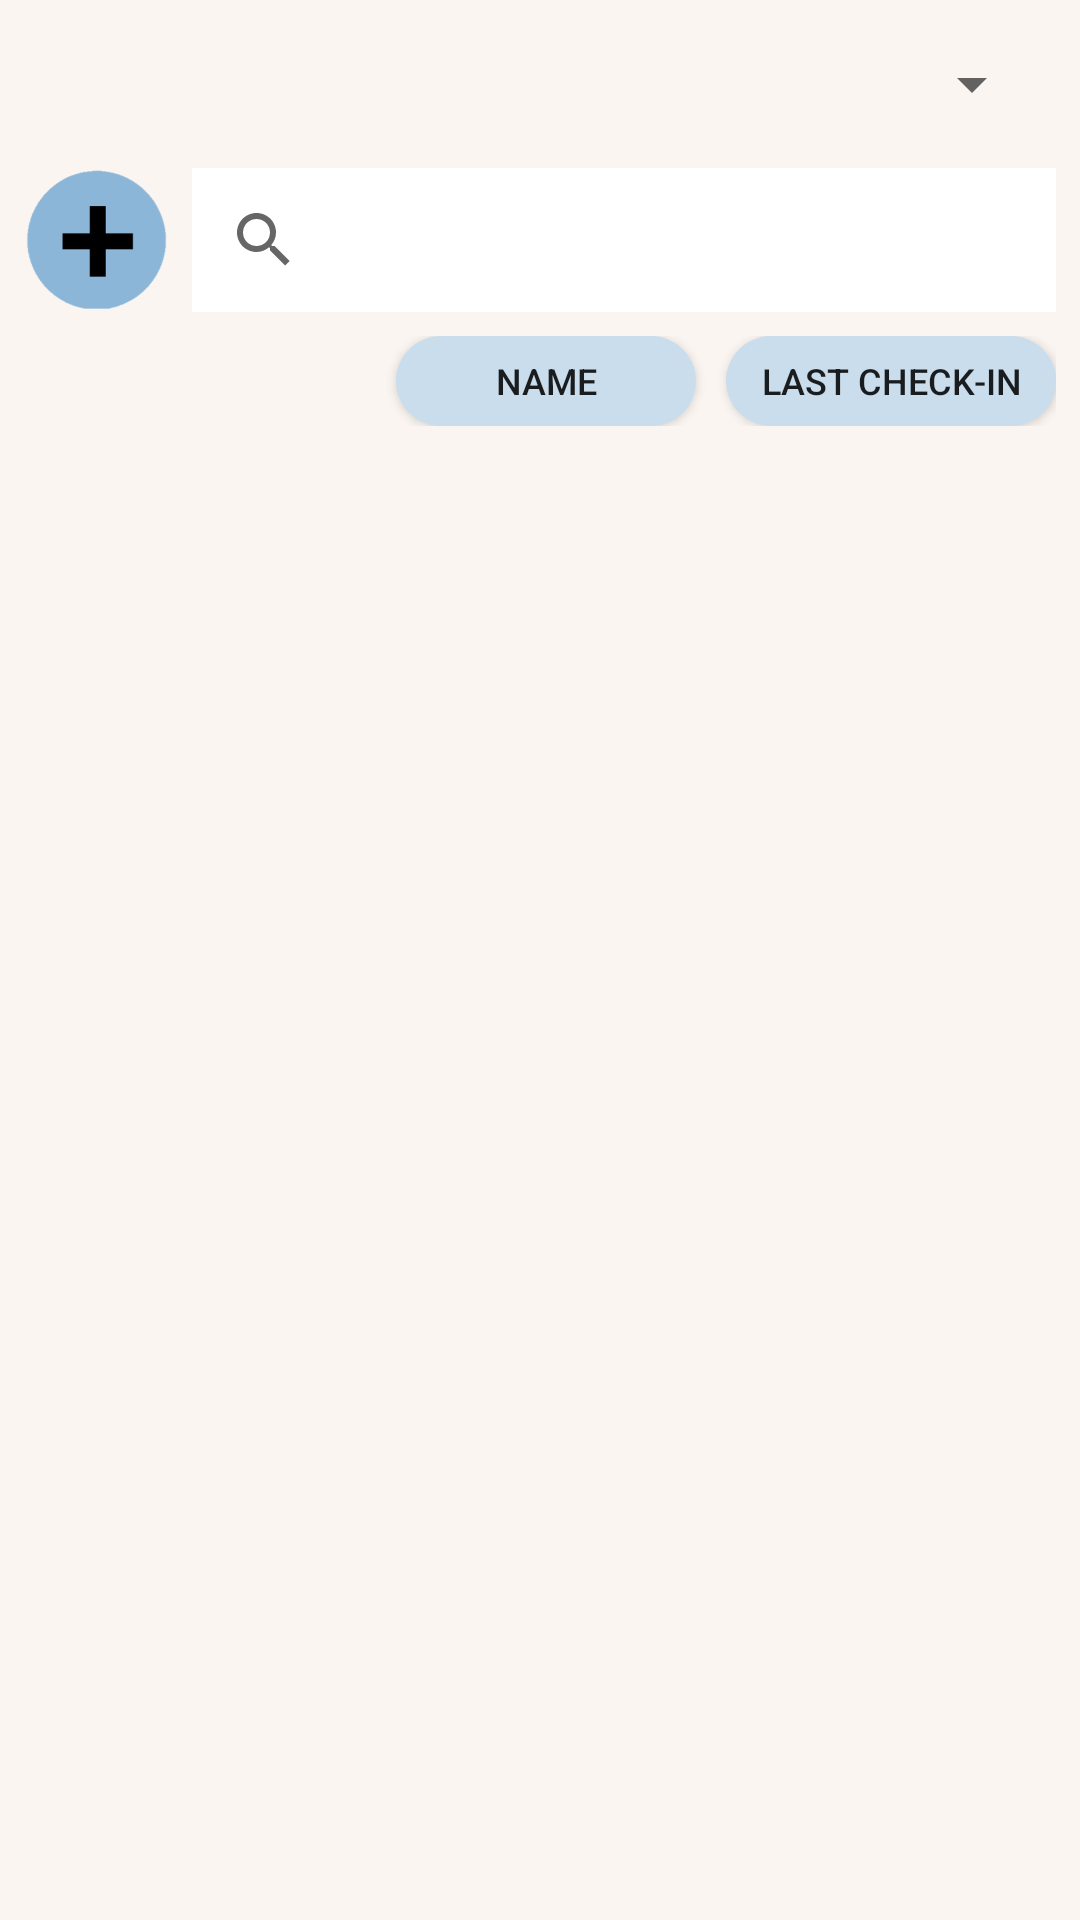

Icons on this 1080w x 1920h Android screen, each with the point to tap as [x,y]:
plus: [96,239]
